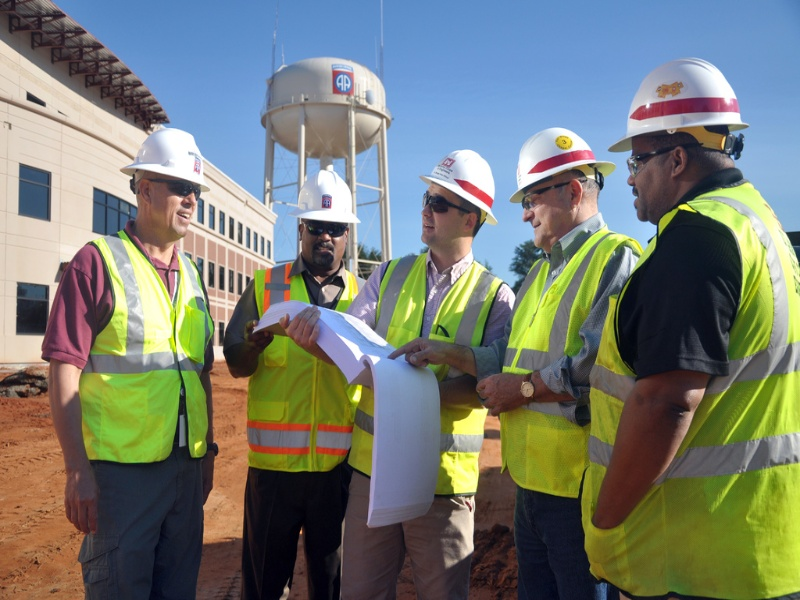Baret: (614, 57, 744, 154), (512, 126, 614, 190), (121, 128, 207, 184), (419, 148, 495, 200), (292, 167, 360, 223)
